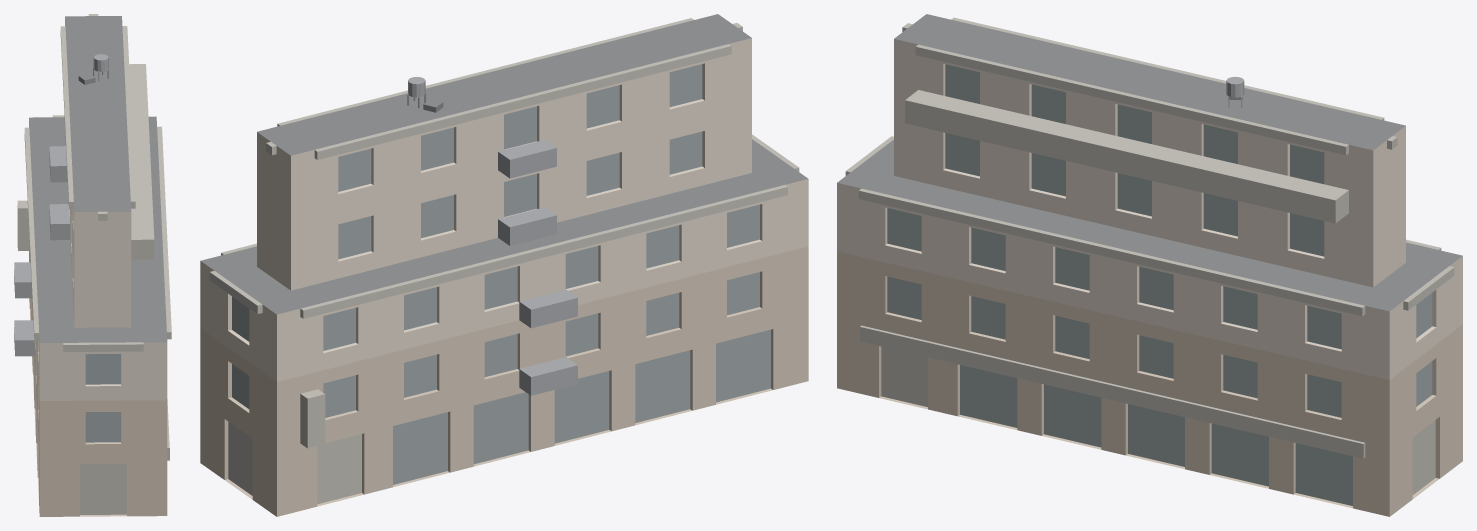
Rendered from doitt-925937__lod_0.glb.
3 views of the same model, side by side, from view 1: azimuth 30°, elevation 25°; view 2: azimuth 150°, elevation 25°; view 3: azimuth 270°, elevation 25° (orthographic). The views are drawn at different scales.
Size of the model in its own units: 18.78 by 17.42 by 26.93.
